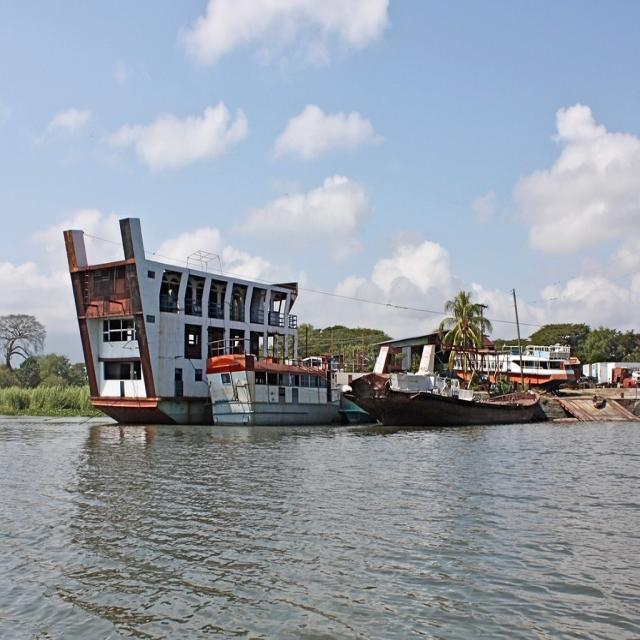boat: (352, 348, 558, 431), (206, 328, 339, 437)
